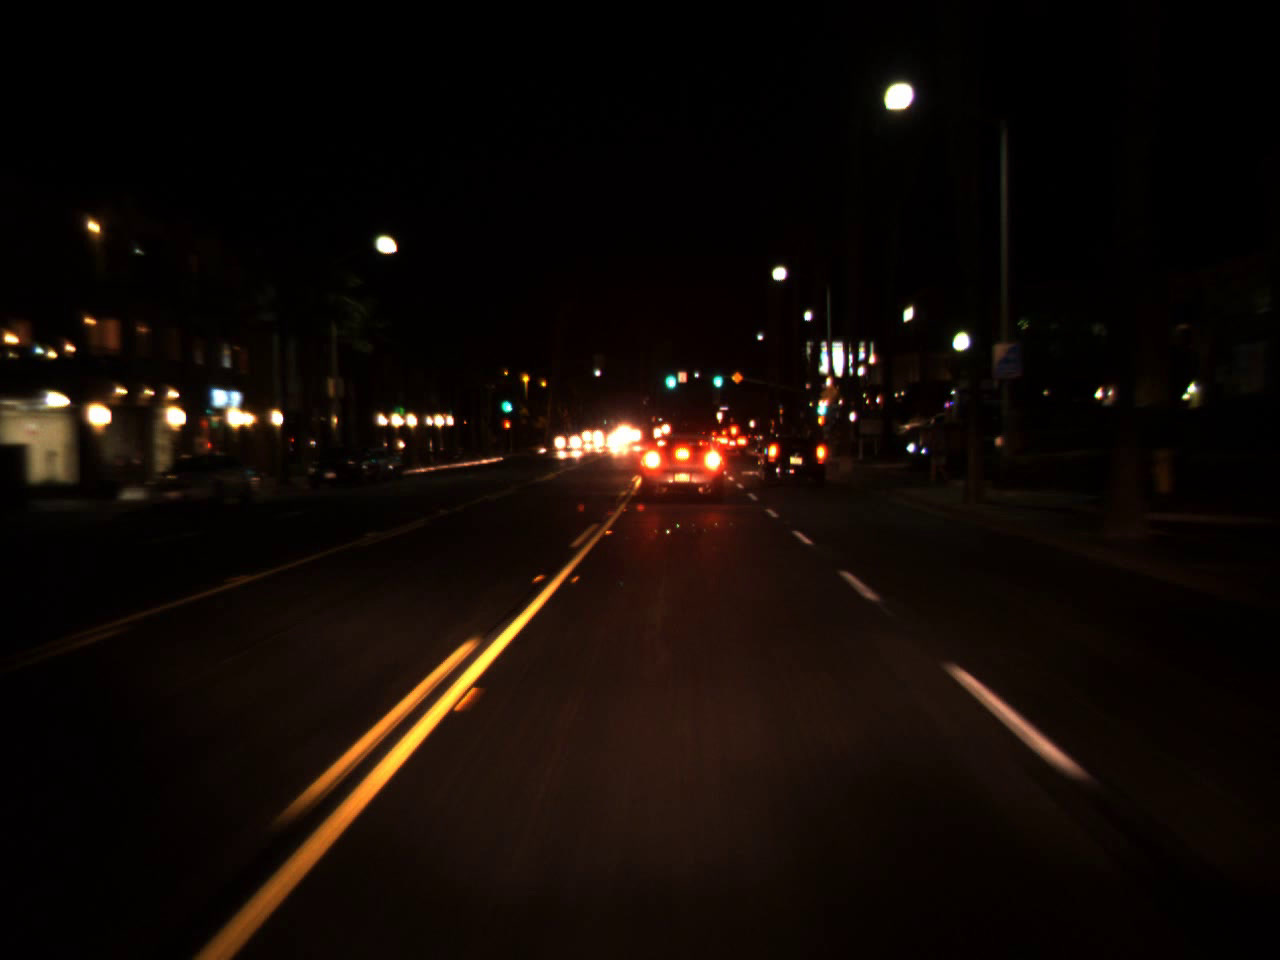go: (661, 358, 679, 394), (710, 365, 724, 389), (501, 388, 510, 415)
